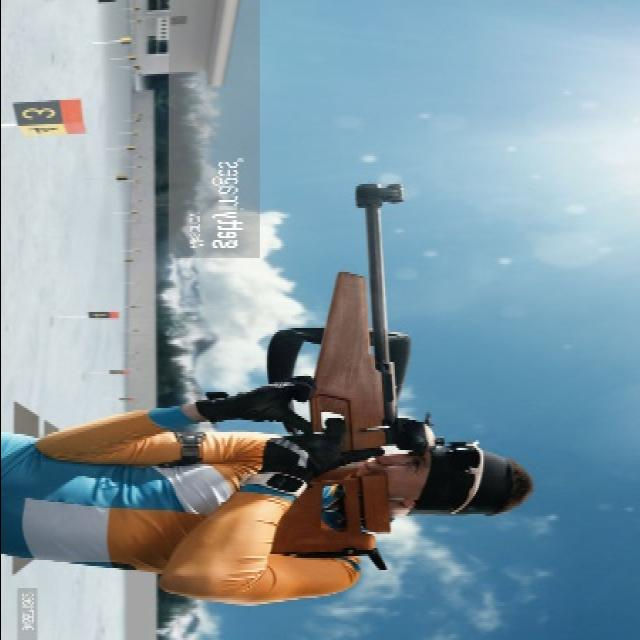rifle: (258, 171, 418, 567)
